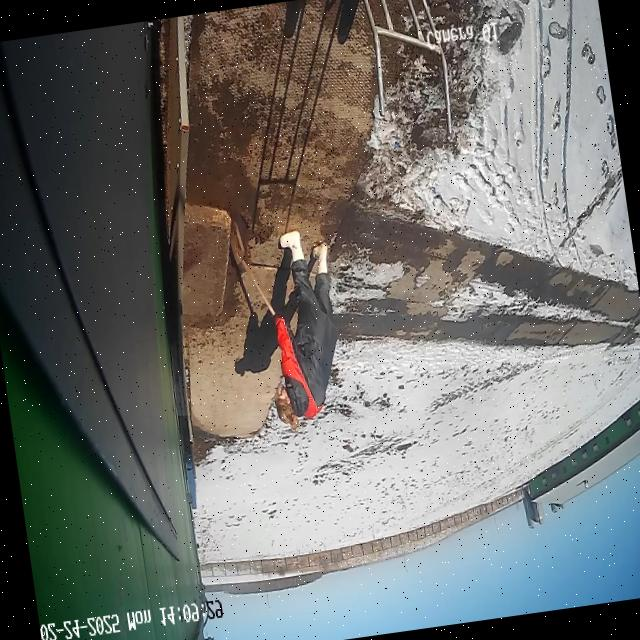Red uniform: (249, 224, 354, 431)
